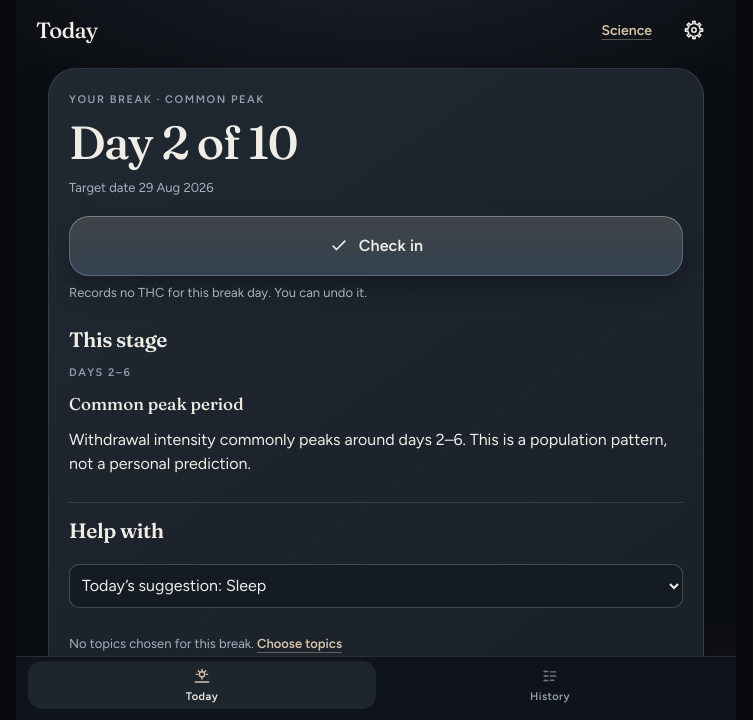
Test case: active-break check-in reflection › marks the current day checked and shows progress after one tap
Step 1. Click the button with test id "checkin-cta" → (376, 246), box [69,216,683,276]
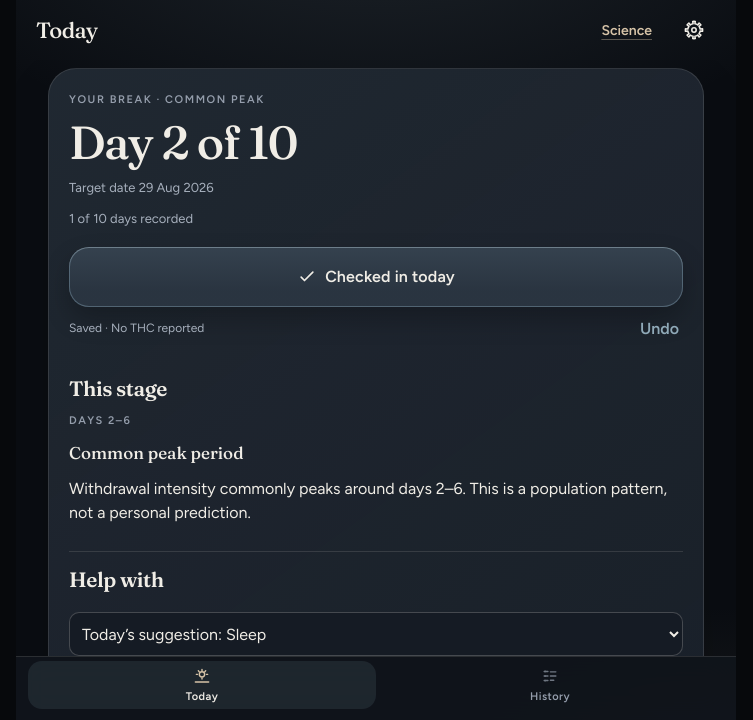
expect the button with test id "checkin-cta" reads "Checked in today": met, box [69,247,683,307]
expect the text with test id "checkin-progress" reads "1 of 10 days recorded": met, box [69,211,193,226]
expect the button with test id "checkin-cta" is disabled: met, box [69,247,683,307]
Step 2. Click the button with test id "undo-checkin" → (655, 329), box [628,307,683,351]
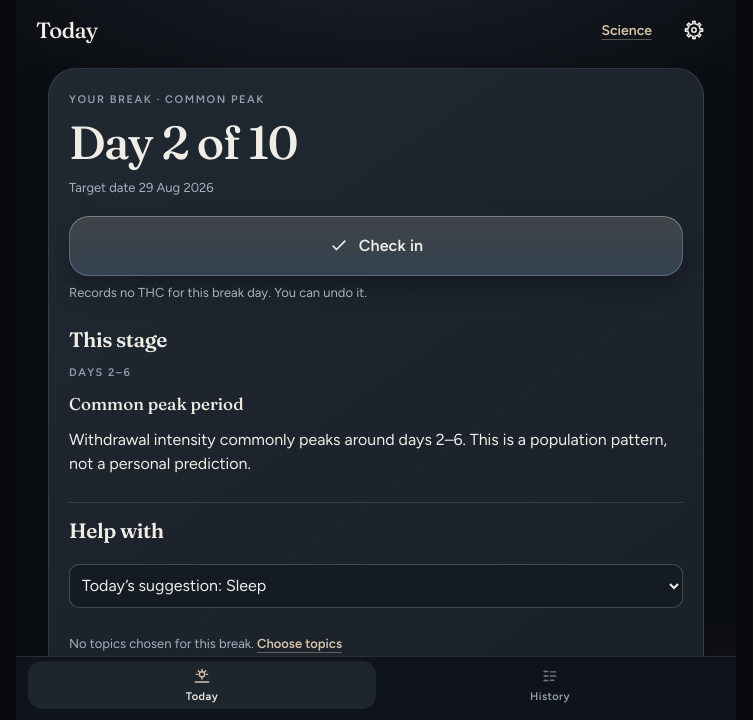
expect the button with test id "checkin-cta" reads "Check in": met, box [69,216,683,276]
expect the text with test id "checkin-progress" is gone: met
